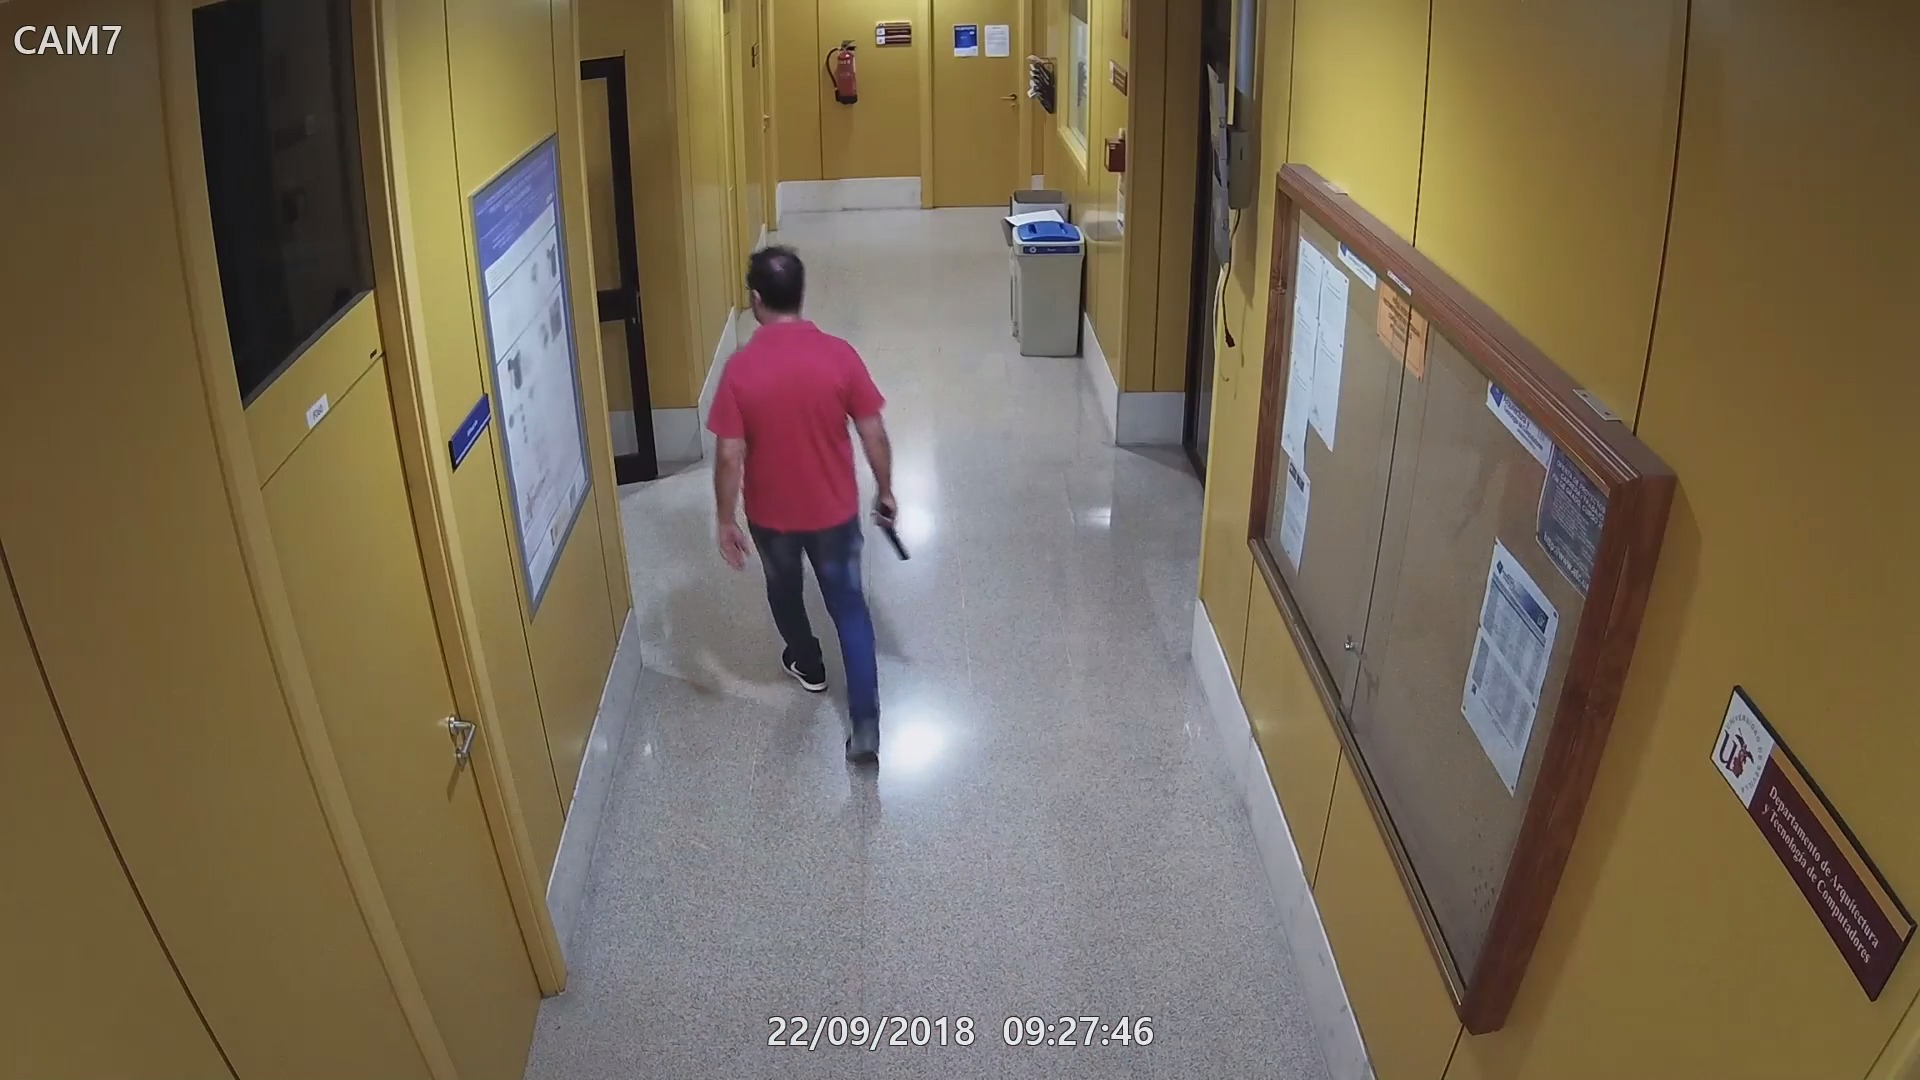Handgun: (870, 491, 913, 564)
